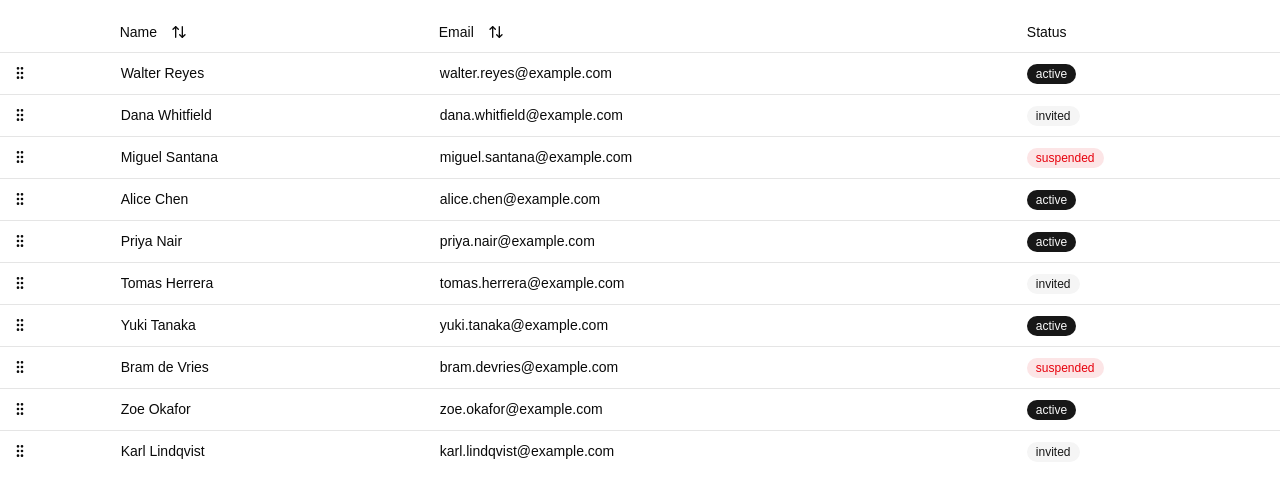
Test: UsersTable › renders a drag handle per row, disabled while a sort is active
The image size is (1280, 479).
Expected: the text "Alice Chen" is shown, [113,178,432,220]
Expected: the button named "Reorder " is enabled, [8,60,32,84]
Click the button "Name".
click(153, 32)  # box [109,16,198,48]
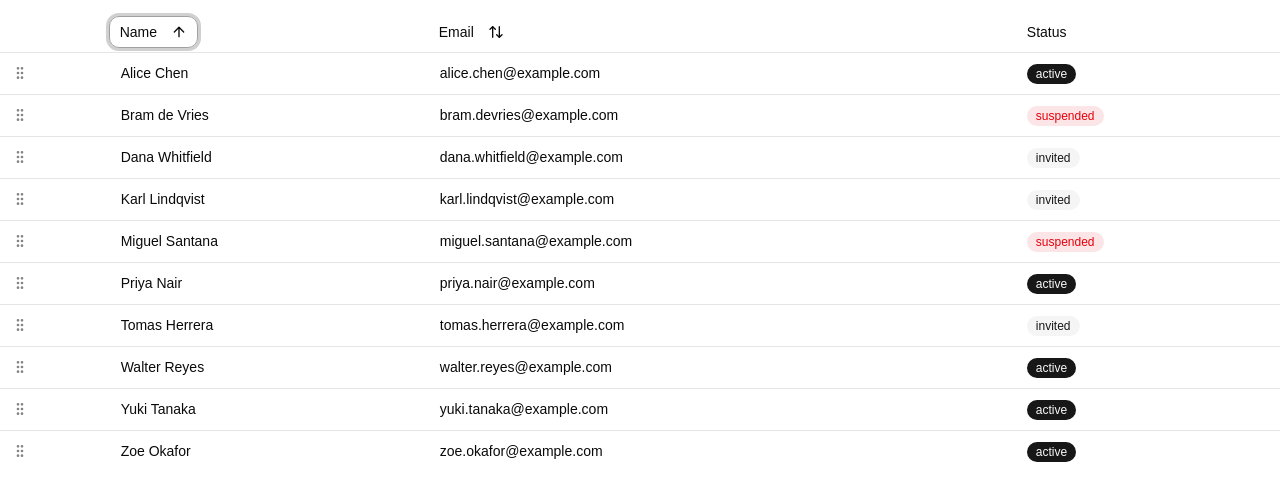
Result: the button named "Reorder " is disabled at [8,60,32,84]
